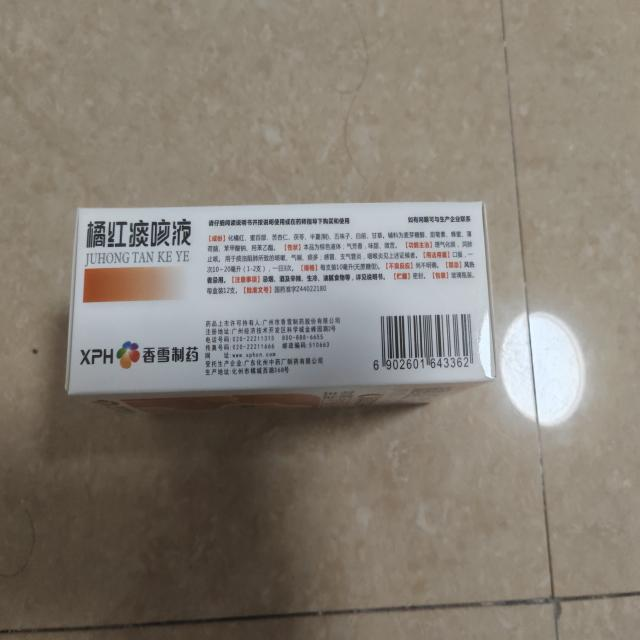box: (59, 197, 497, 412)
